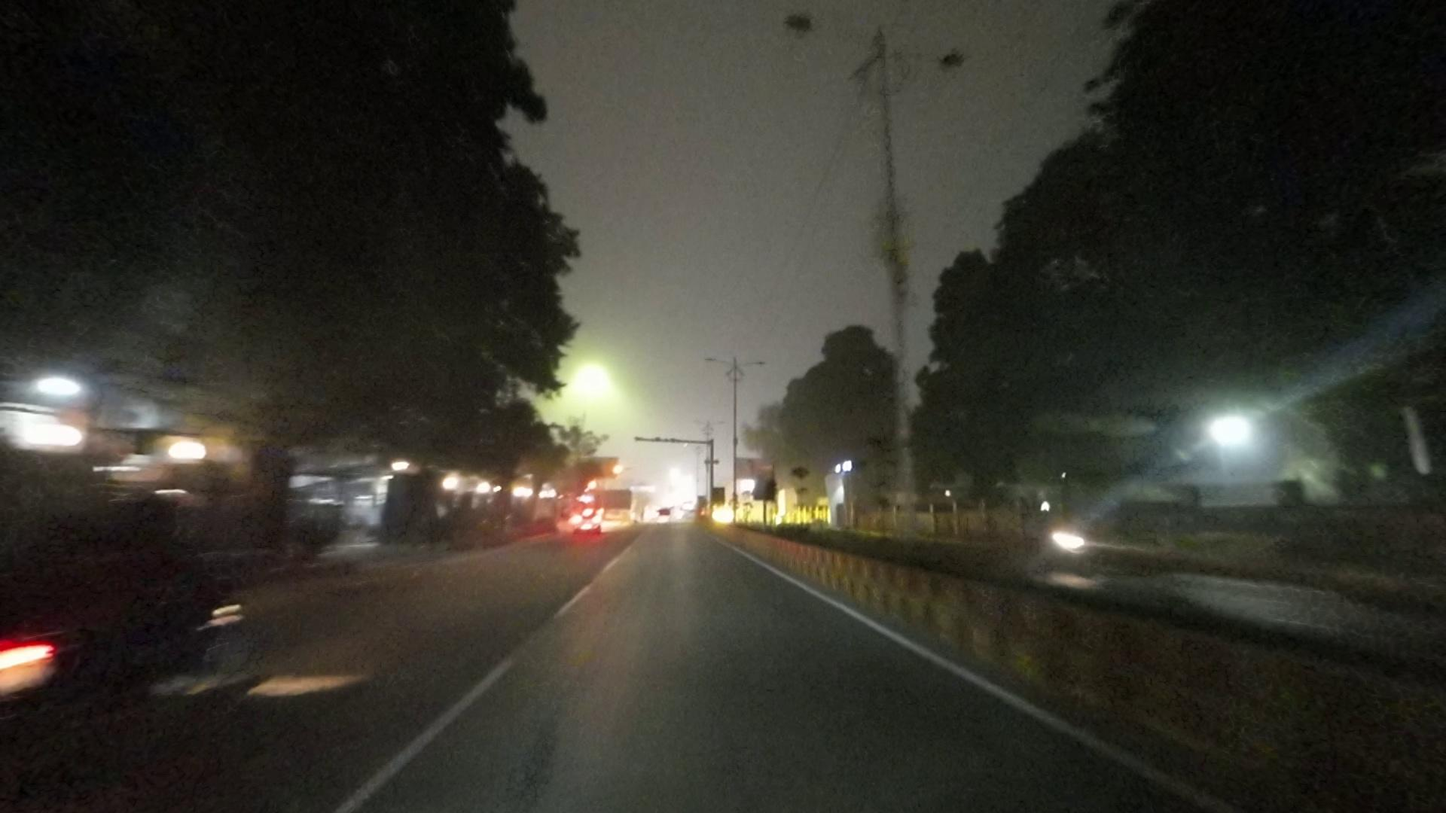streetlight: (782, 9, 875, 50), (893, 44, 972, 74)
